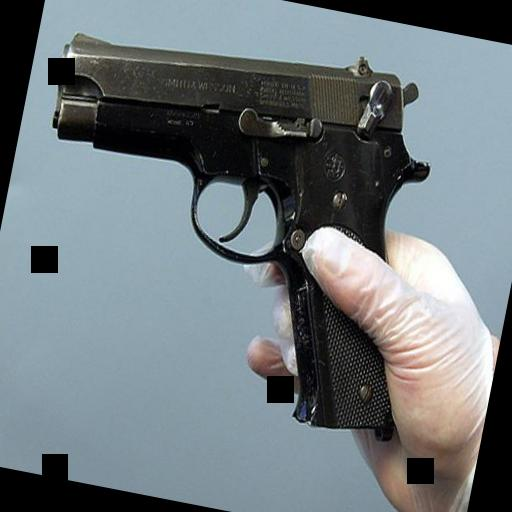Handgun: (0, 0, 461, 439)
